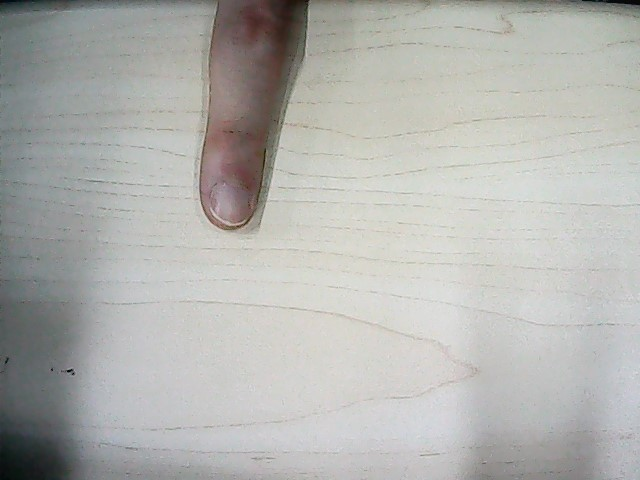nail: (206, 172, 252, 225)
